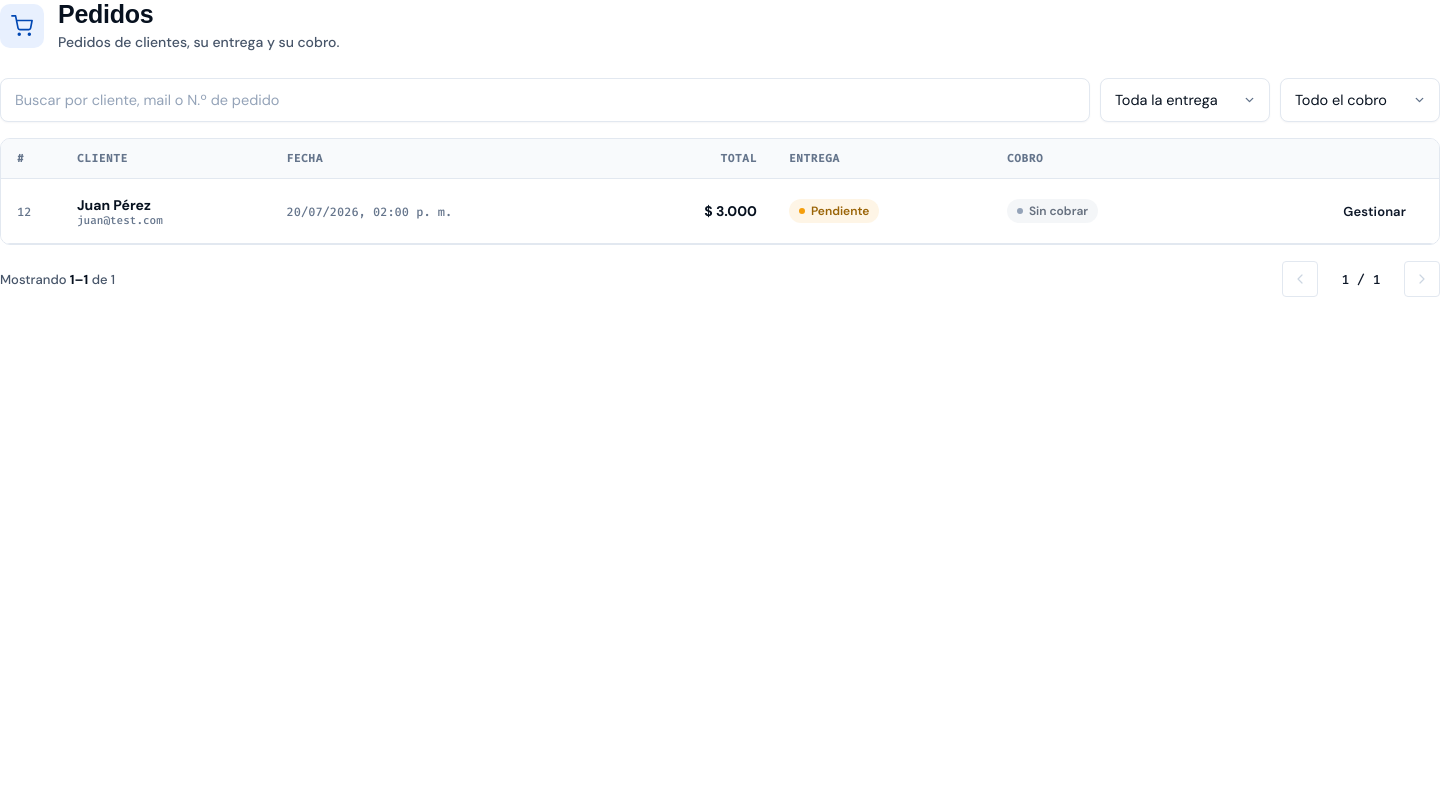
it: AdminOrdersPage — ficha del pedido › muestra los ítems con el snapshot del precio
Expected: the text "Juan Pérez" is shown, [77,196,151,214]
Click the button "Gestionar" at (1375, 211), box [1326,192,1423,230]
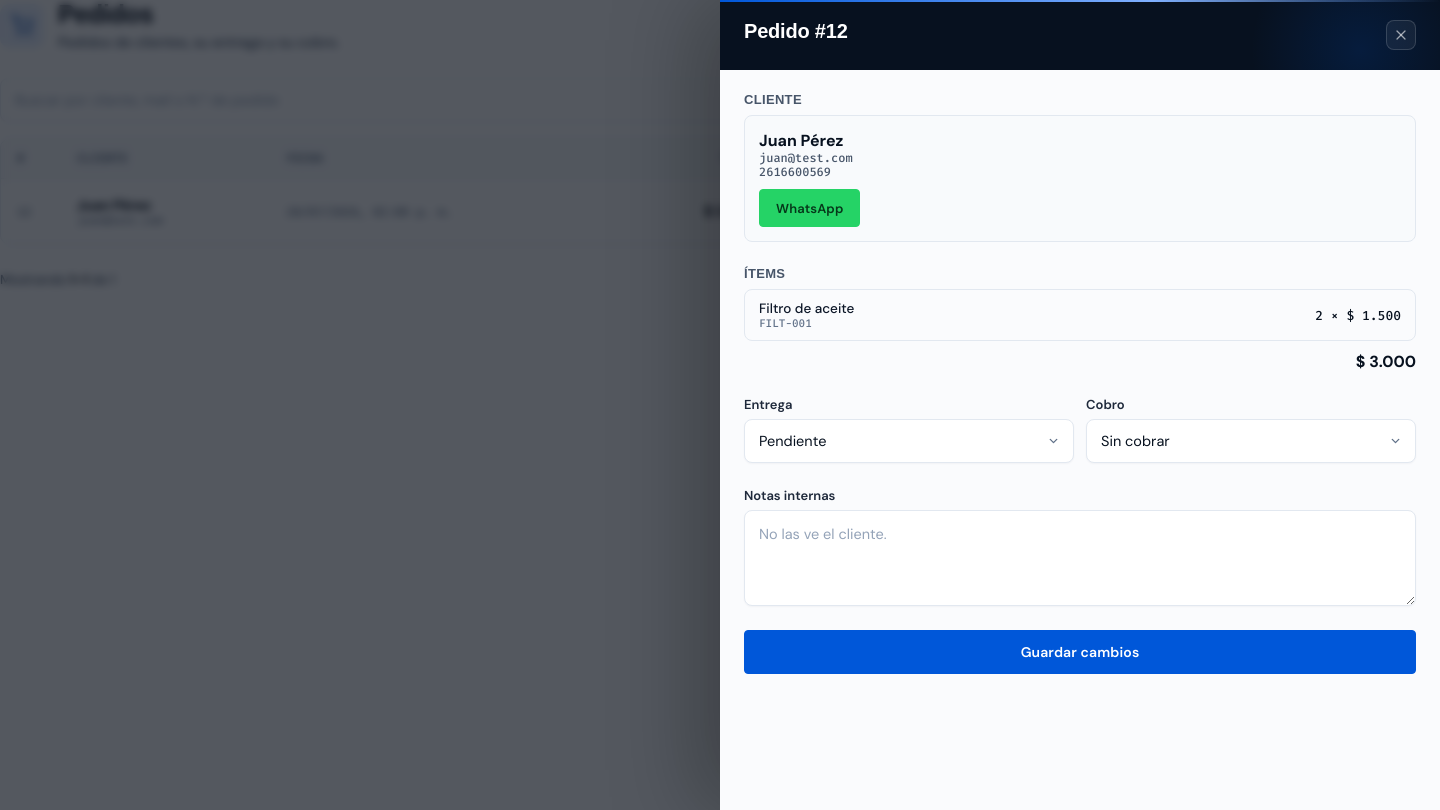
Now the text "Filtro de aceite" is shown, box [759,300,854,317]
Now the text "FILT-001" is shown, box [759,317,812,330]
